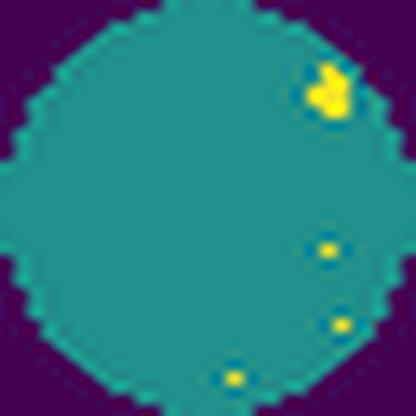Loc: (307, 62, 356, 124)
